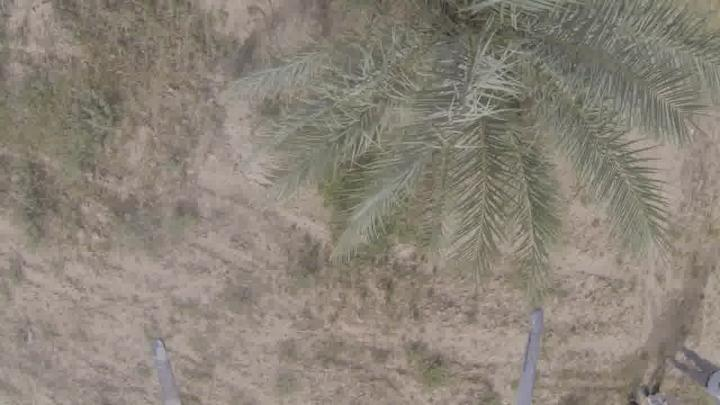Date-Palm-Crown: (306, 0, 658, 216)
